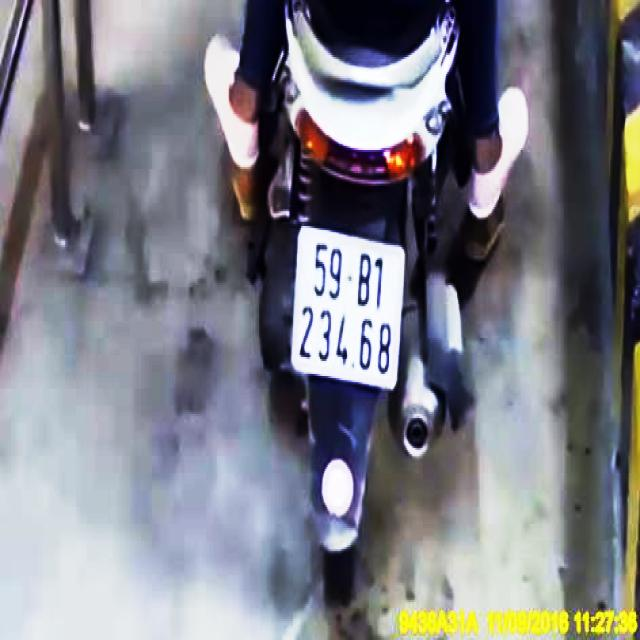license_plate: (293, 226, 407, 392)
